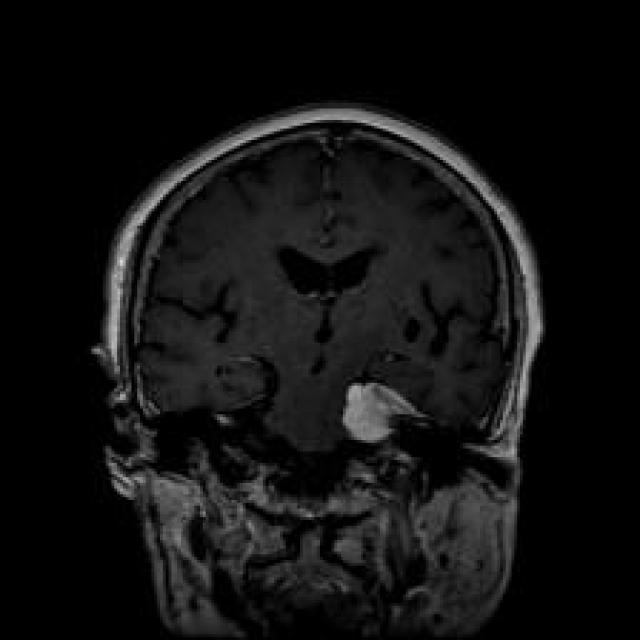meningioma_tumor: (333, 366, 449, 456)
